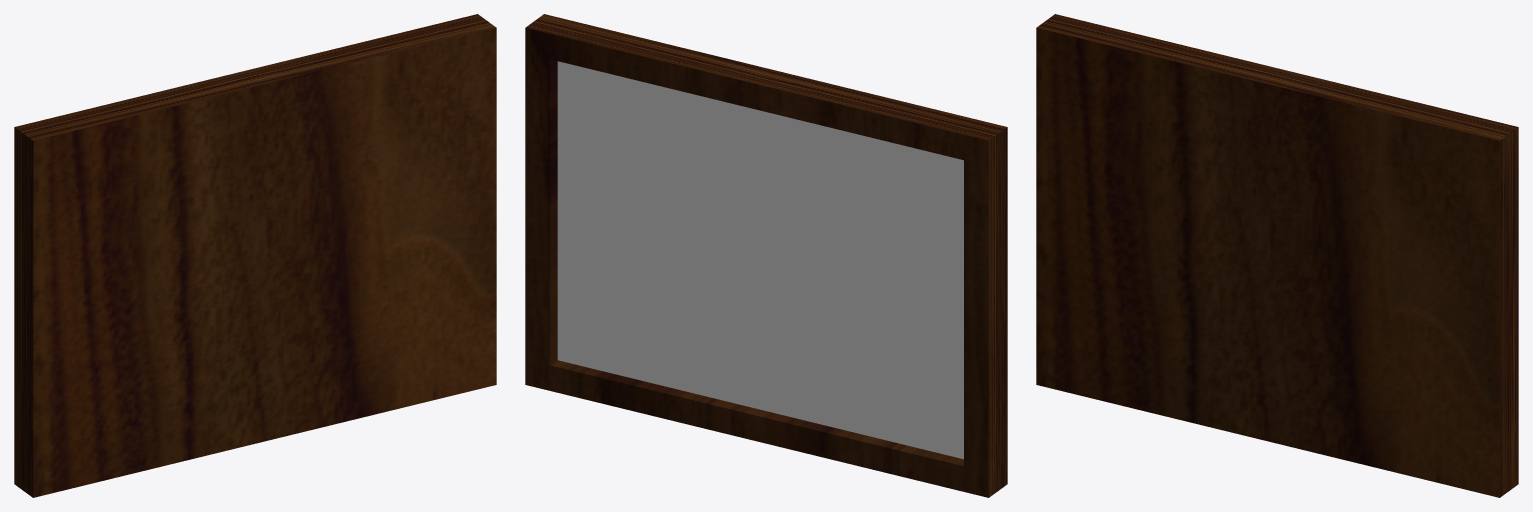
The model's file is picture.fbx.
3 views of the same model, side by side, from view 1: azimuth 30°, elevation 25°; view 2: azimuth 150°, elevation 25°; view 3: azimuth 330°, elevation 25° (orthographic).
Visible parts, largest first — view 1: Cube.005; view 2: Cube.005; view 3: Cube.005.
Boxes of the visible parts, x1,y1,x2,y2 form: Cube.005: (14, 14, 496, 497); Cube.005: (525, 14, 1007, 497); Cube.005: (1036, 14, 1518, 497).
Bounding box in the file's own units: 5.21 × 3.84 × 0.3642.
